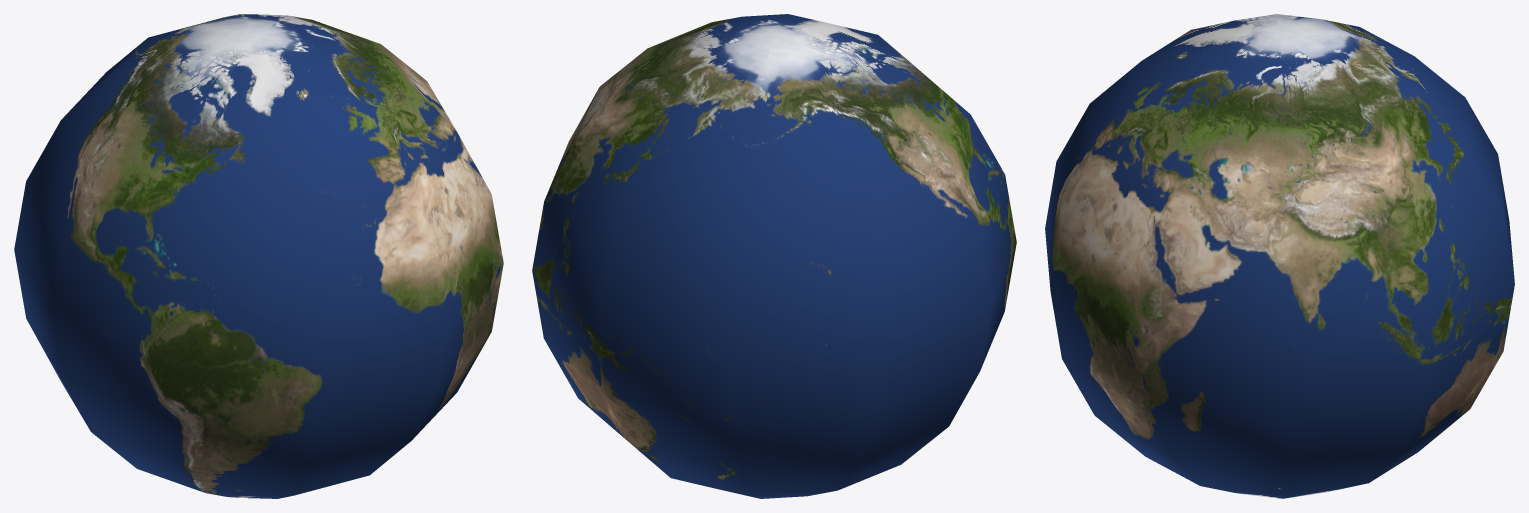
File: earth.fbx
The picture shows the model from 3 angles, left to right: view 1: azimuth 30°, elevation 25°; view 2: azimuth 150°, elevation 25°; view 3: azimuth 270°, elevation 25°; orthographic projection.
Visible parts, largest first — view 1: earth2; view 2: earth2; view 3: earth2.
Boxes of the visible parts, x1,y1,x2,y2 form: earth2: [14, 14, 503, 498]; earth2: [532, 14, 1016, 498]; earth2: [1045, 14, 1514, 498].
Size of the model in its own units: 56.2 by 56.24 by 54.09.
1 material, 1 textured.
